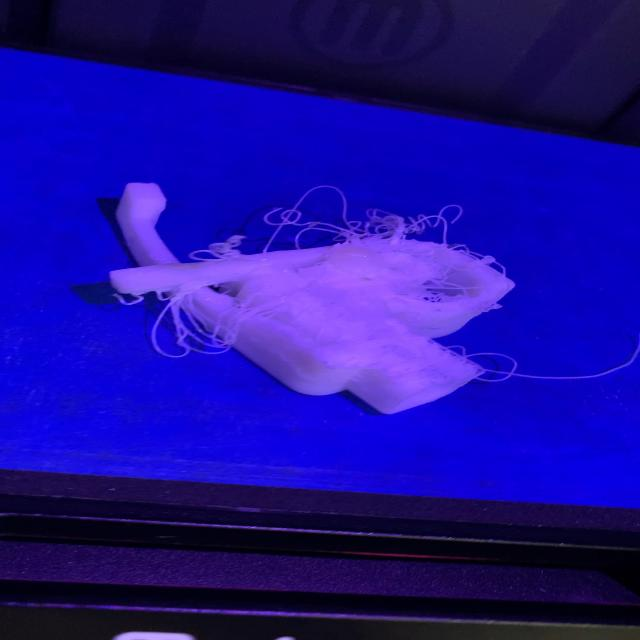spaghetti: (106, 182, 636, 414)
